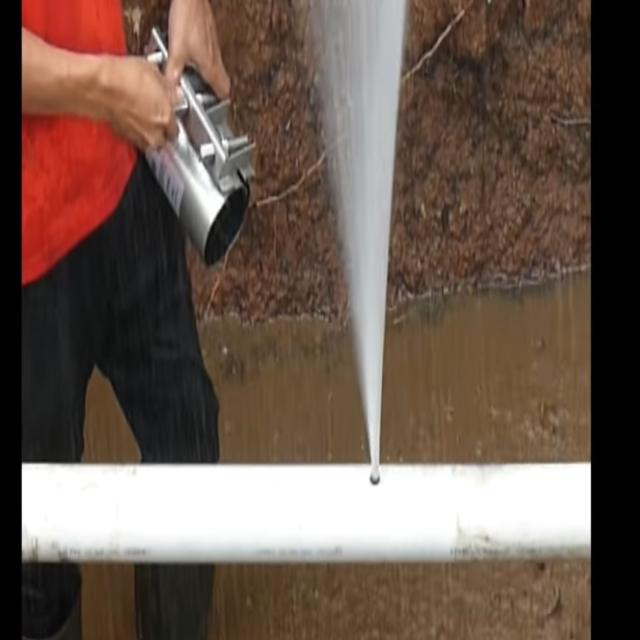leak: (312, 0, 406, 484)
